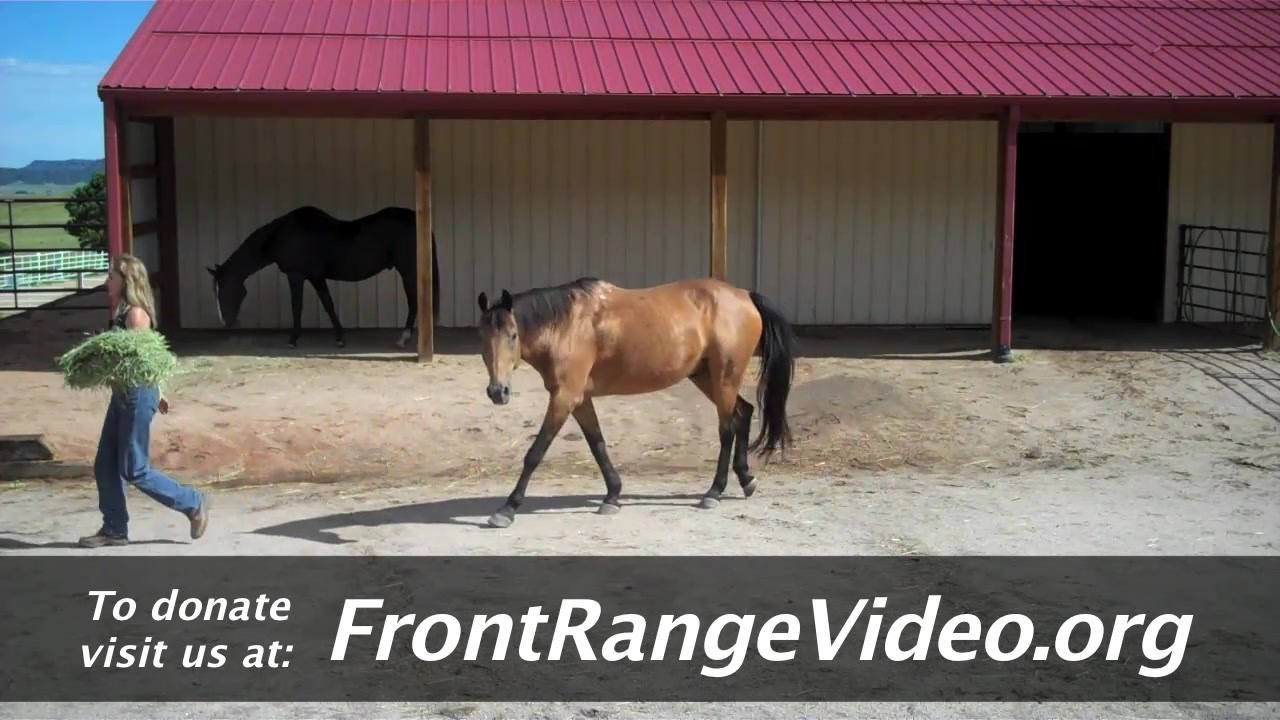horse: (474, 275, 800, 531), (202, 202, 446, 350)
